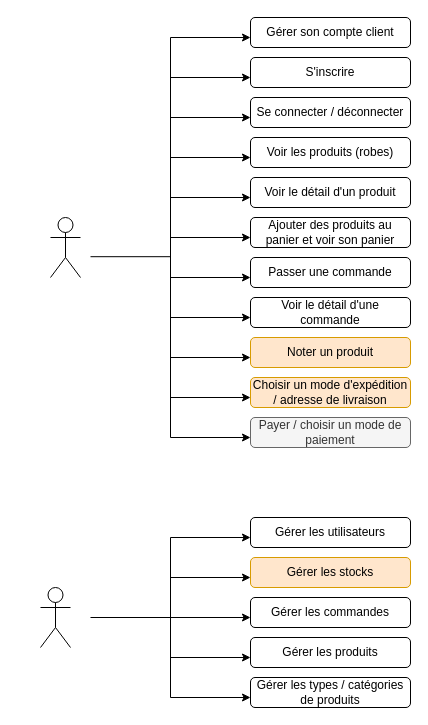
Image size: 428x725. Some labels were removed from this diagram. The centre of each missing label's shape, as x and y in pixels:
Administrateur: (x=55, y=617)
Client: (x=65, y=247)
